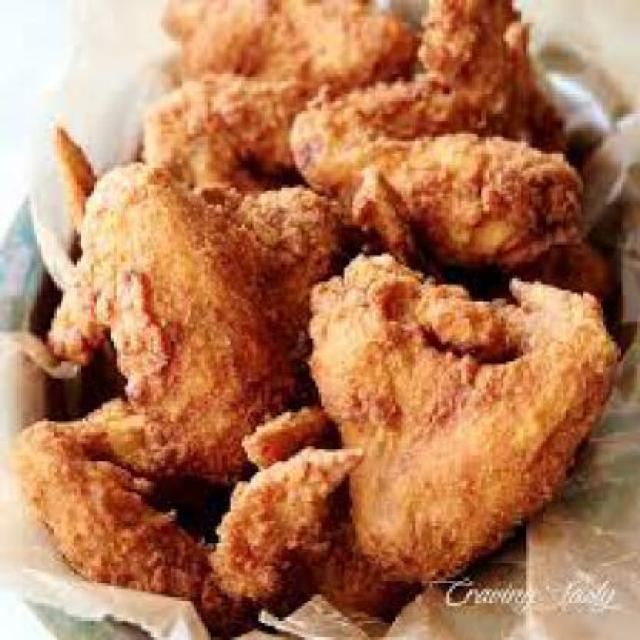Frango: (34, 8, 620, 604)
